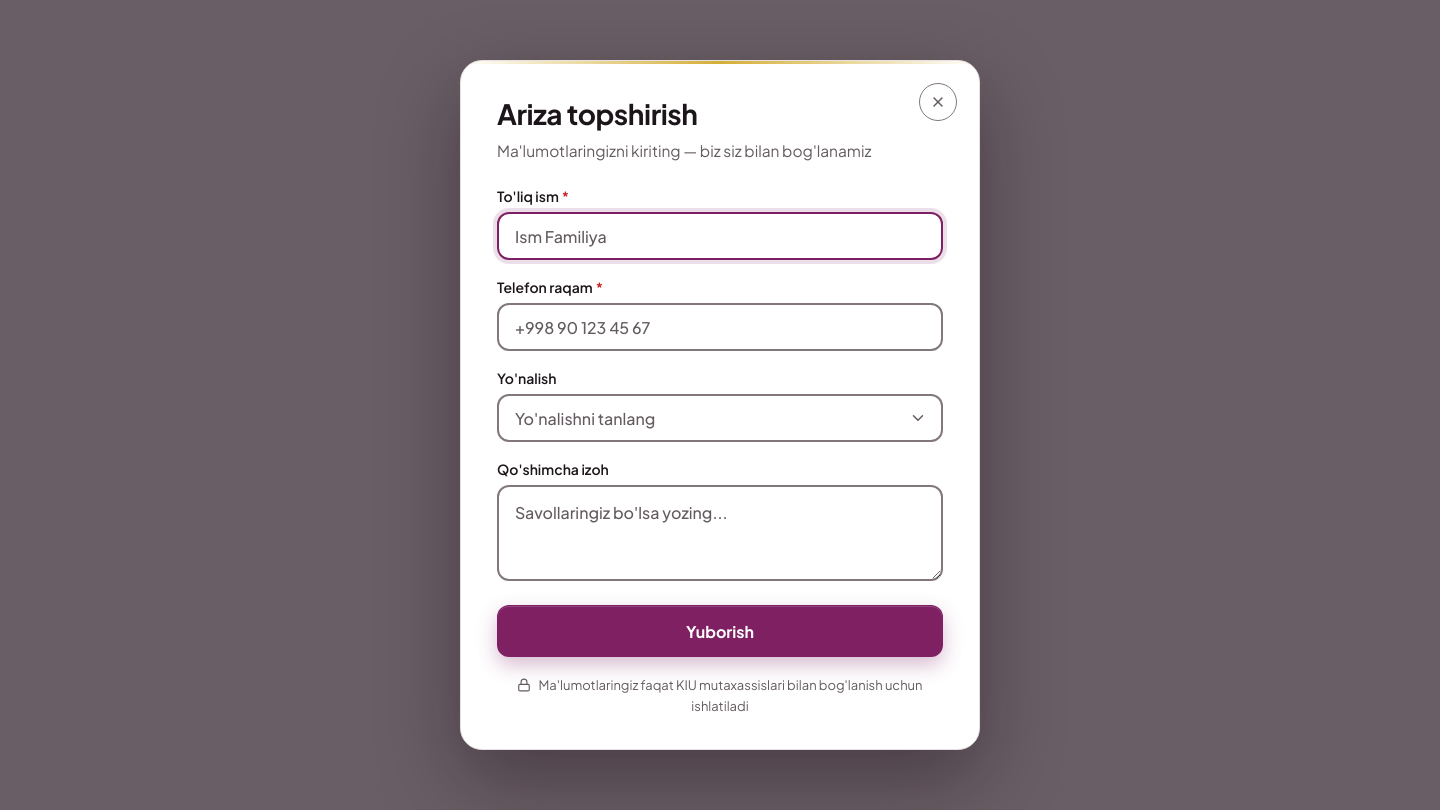
ApplyModal › o'zbek apostrofli ism (Gʻayrat) qabul qilinadi
Type "Gʻayrat Oʻktamov" into the field with placeholder "Ism Familiya".
click(720, 236); type("Gʻayrat Oʻktamov")  # box top-left (497, 212), bottom-right (943, 260)
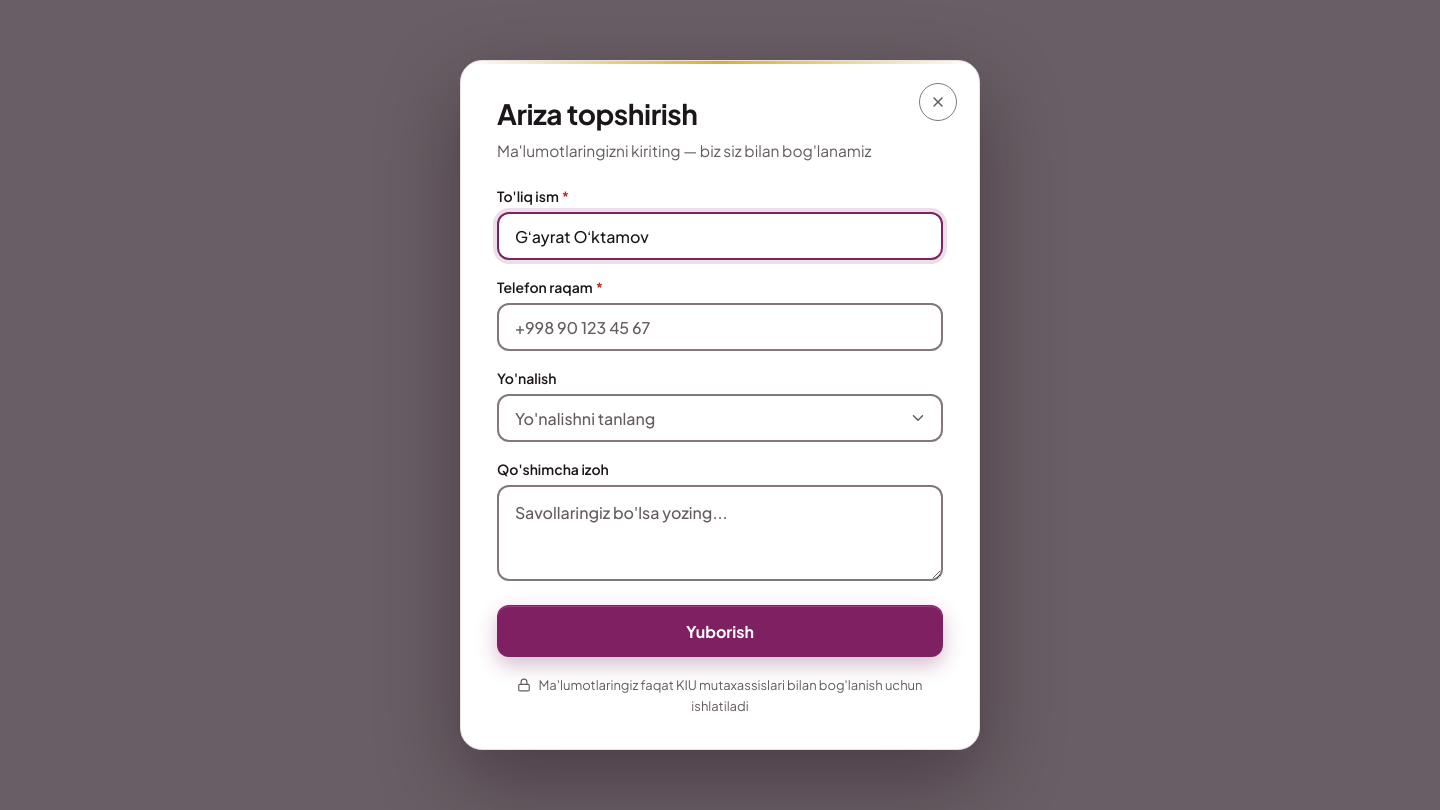
Type "901234567" into the field with placeholder "+998 90 123 45 67".
click(720, 327); type("901234567")  # box top-left (497, 303), bottom-right (943, 351)
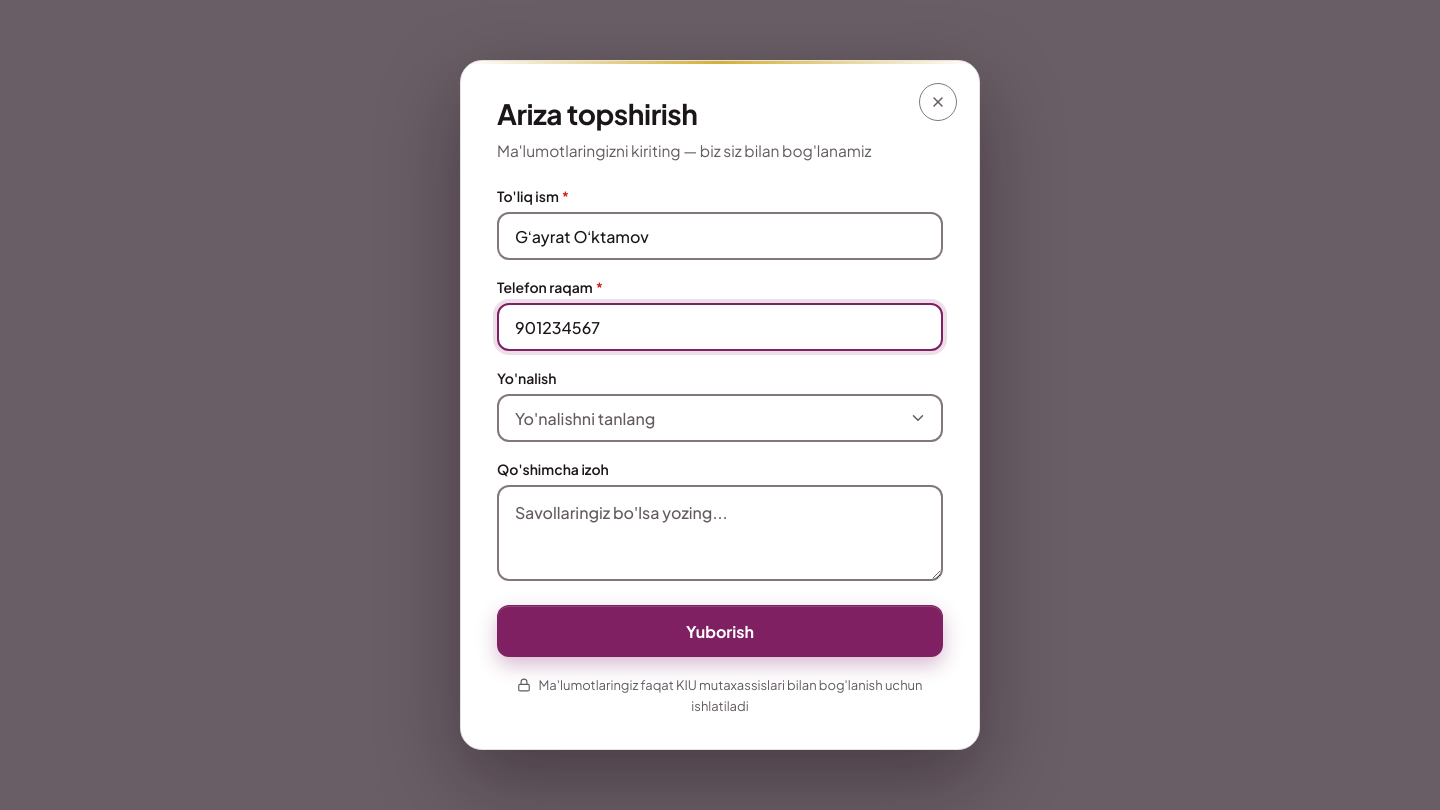
Click the button "Yuborish".
click(720, 631)  # box top-left (497, 605), bottom-right (943, 657)
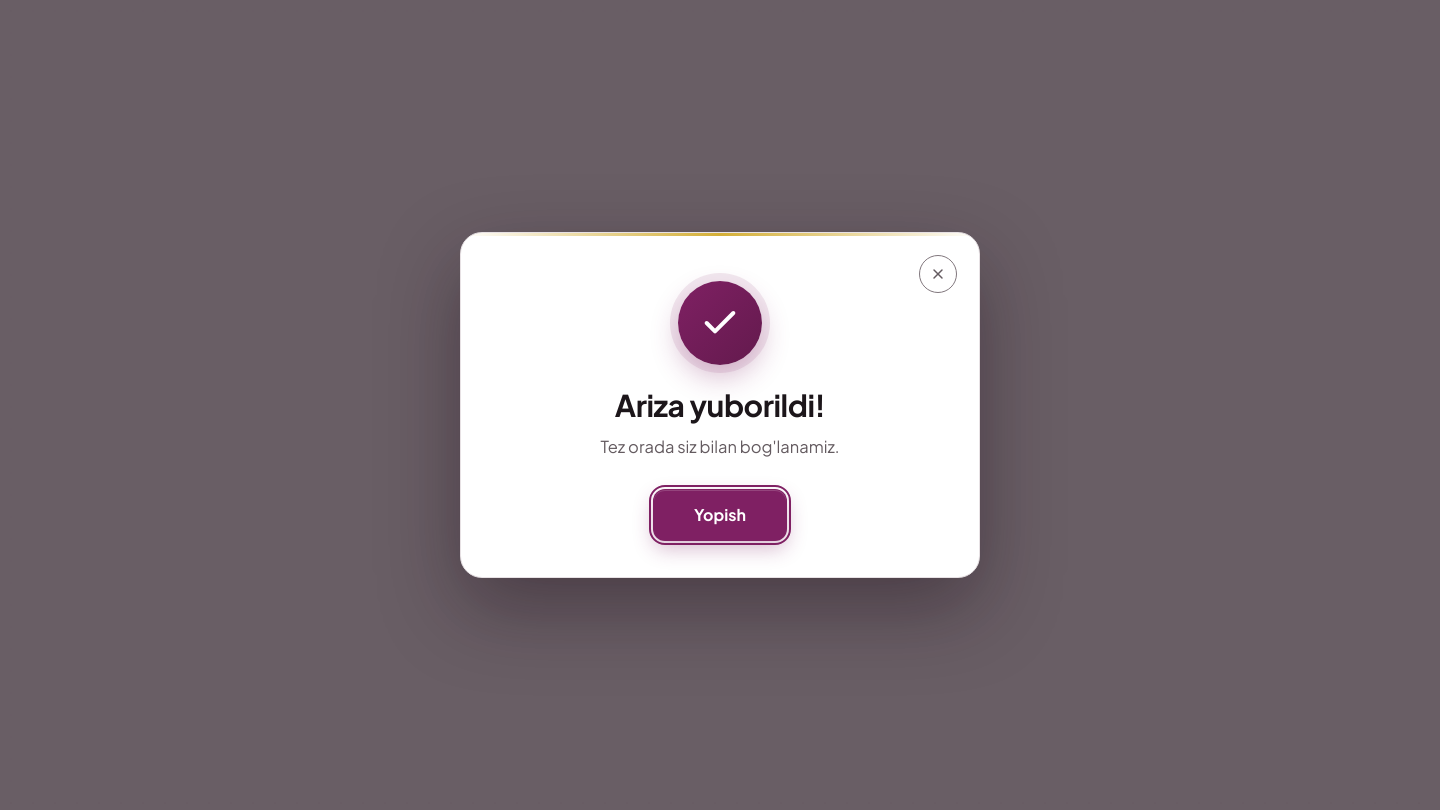
Expected: the heading "Ariza yuborildi!" is shown, top-left (615, 386), bottom-right (825, 424)
